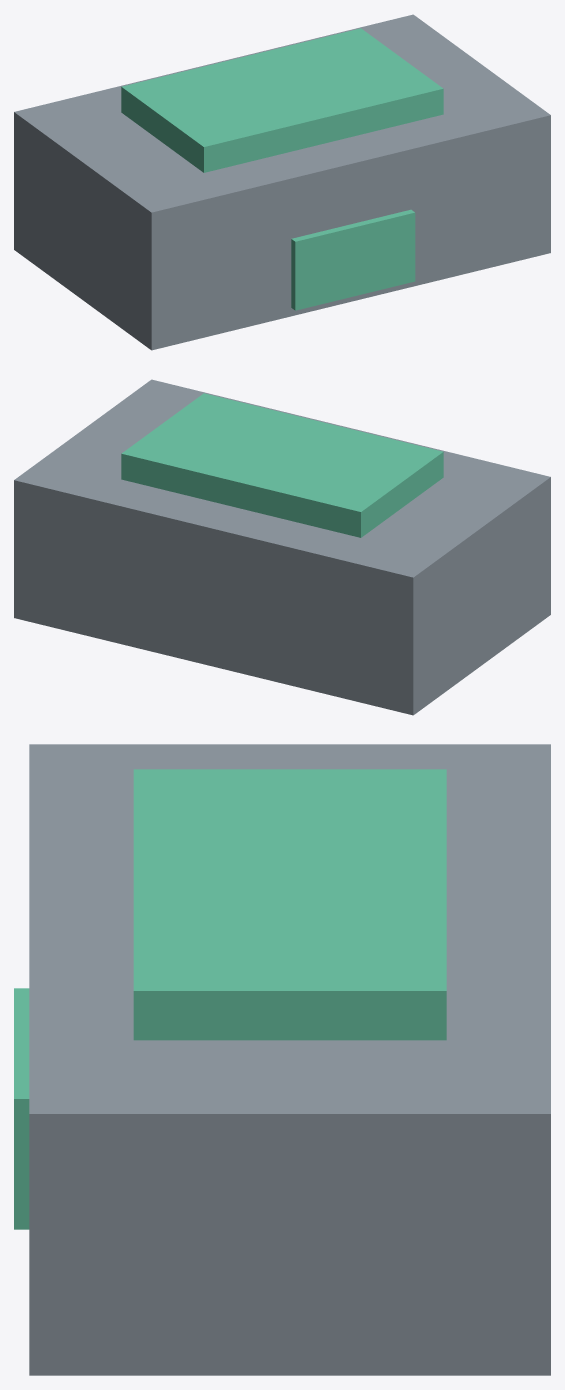
Rendered from CO_SeimonShieldCarrier_LOD0.glb.
3 renders of one model, top to bottom at view 1: azimuth 30°, elevation 25°; view 2: azimuth 150°, elevation 25°; view 3: azimuth 270°, elevation 25°, orthographic. The views are drawn at different scales.
Parts seen in each view (by area): view 1: EntranceGate; view 2: EntranceGate; view 3: EntranceGate.
Boxes of the visible parts, bbox=[...] form: EntranceGate: bbox=[14, 14, 550, 350]; EntranceGate: bbox=[14, 379, 550, 715]; EntranceGate: bbox=[14, 744, 550, 1375].
Bounding box in the file's own units: 570 × 223 × 350.
